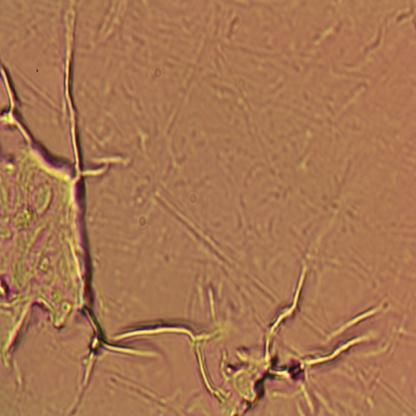Stage I: (4, 97, 84, 361)
